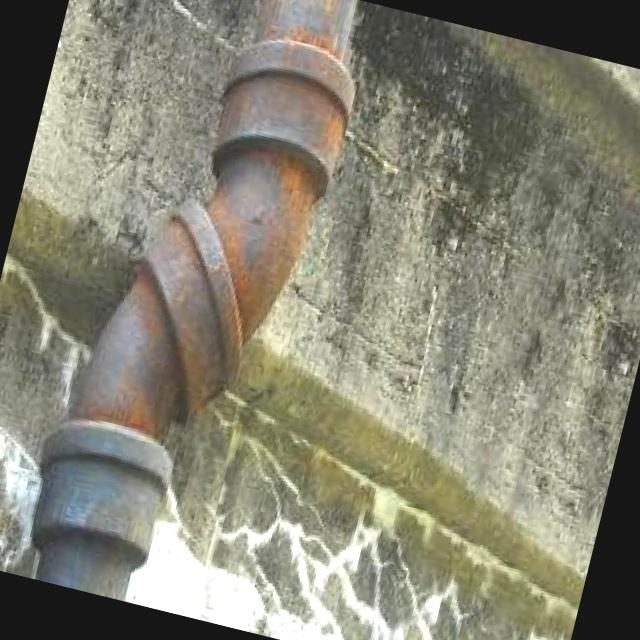rust: (63, 0, 384, 467)
